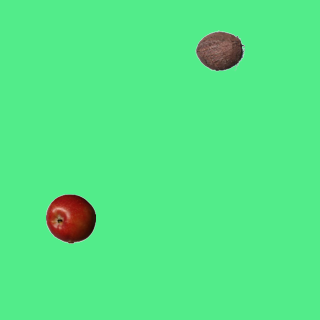Apple Braeburn: (45, 193, 95, 243)
Cocos: (194, 25, 244, 75)
